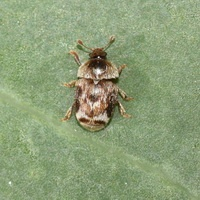insect: (61, 35, 132, 130)
